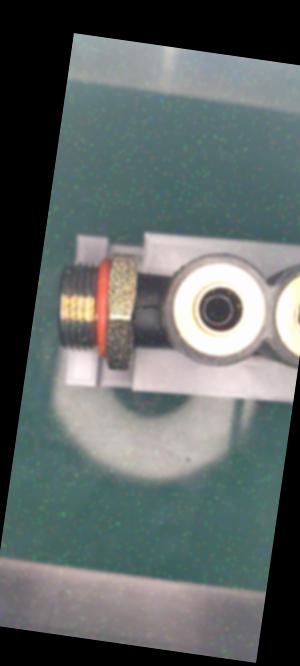craze: (134, 299, 163, 316)
